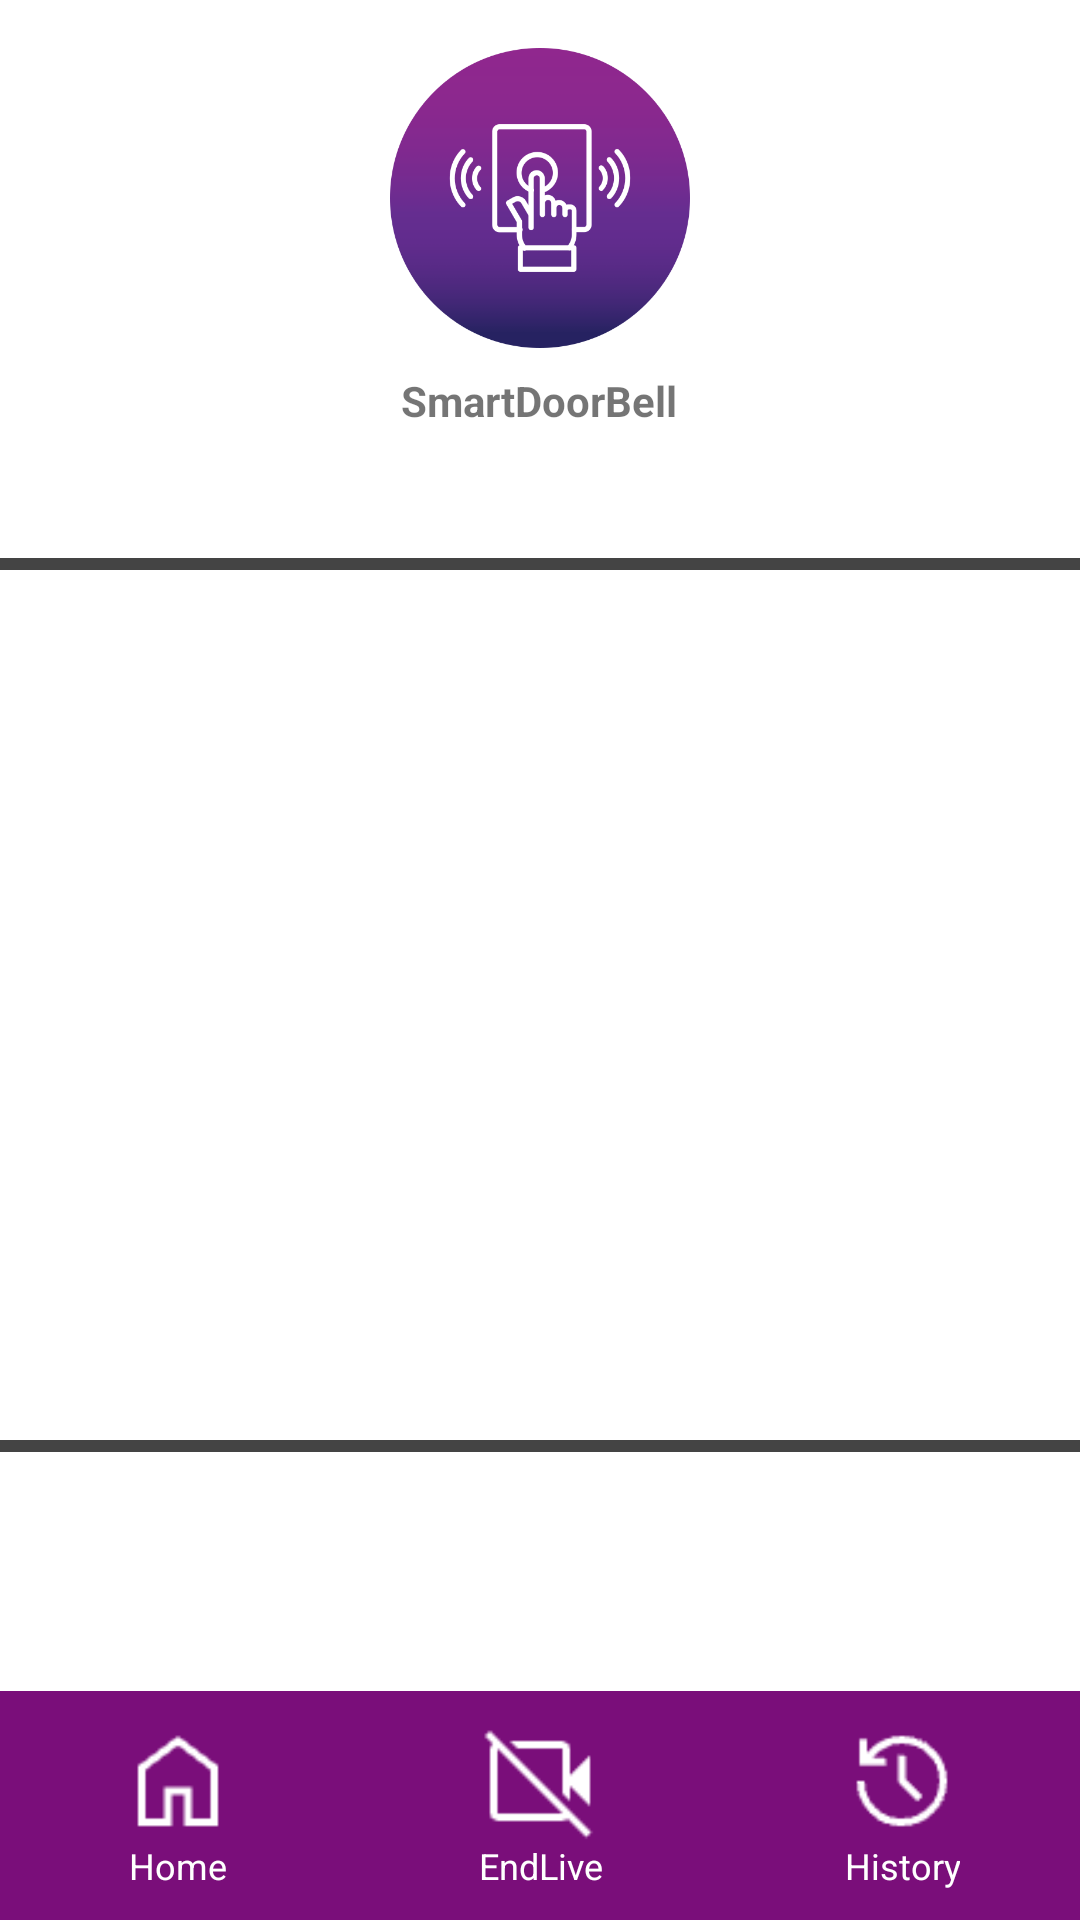

Icon click points for this 1080 × 1920 phone screenshot, format (x,y):
videocam off: (538,1784)
